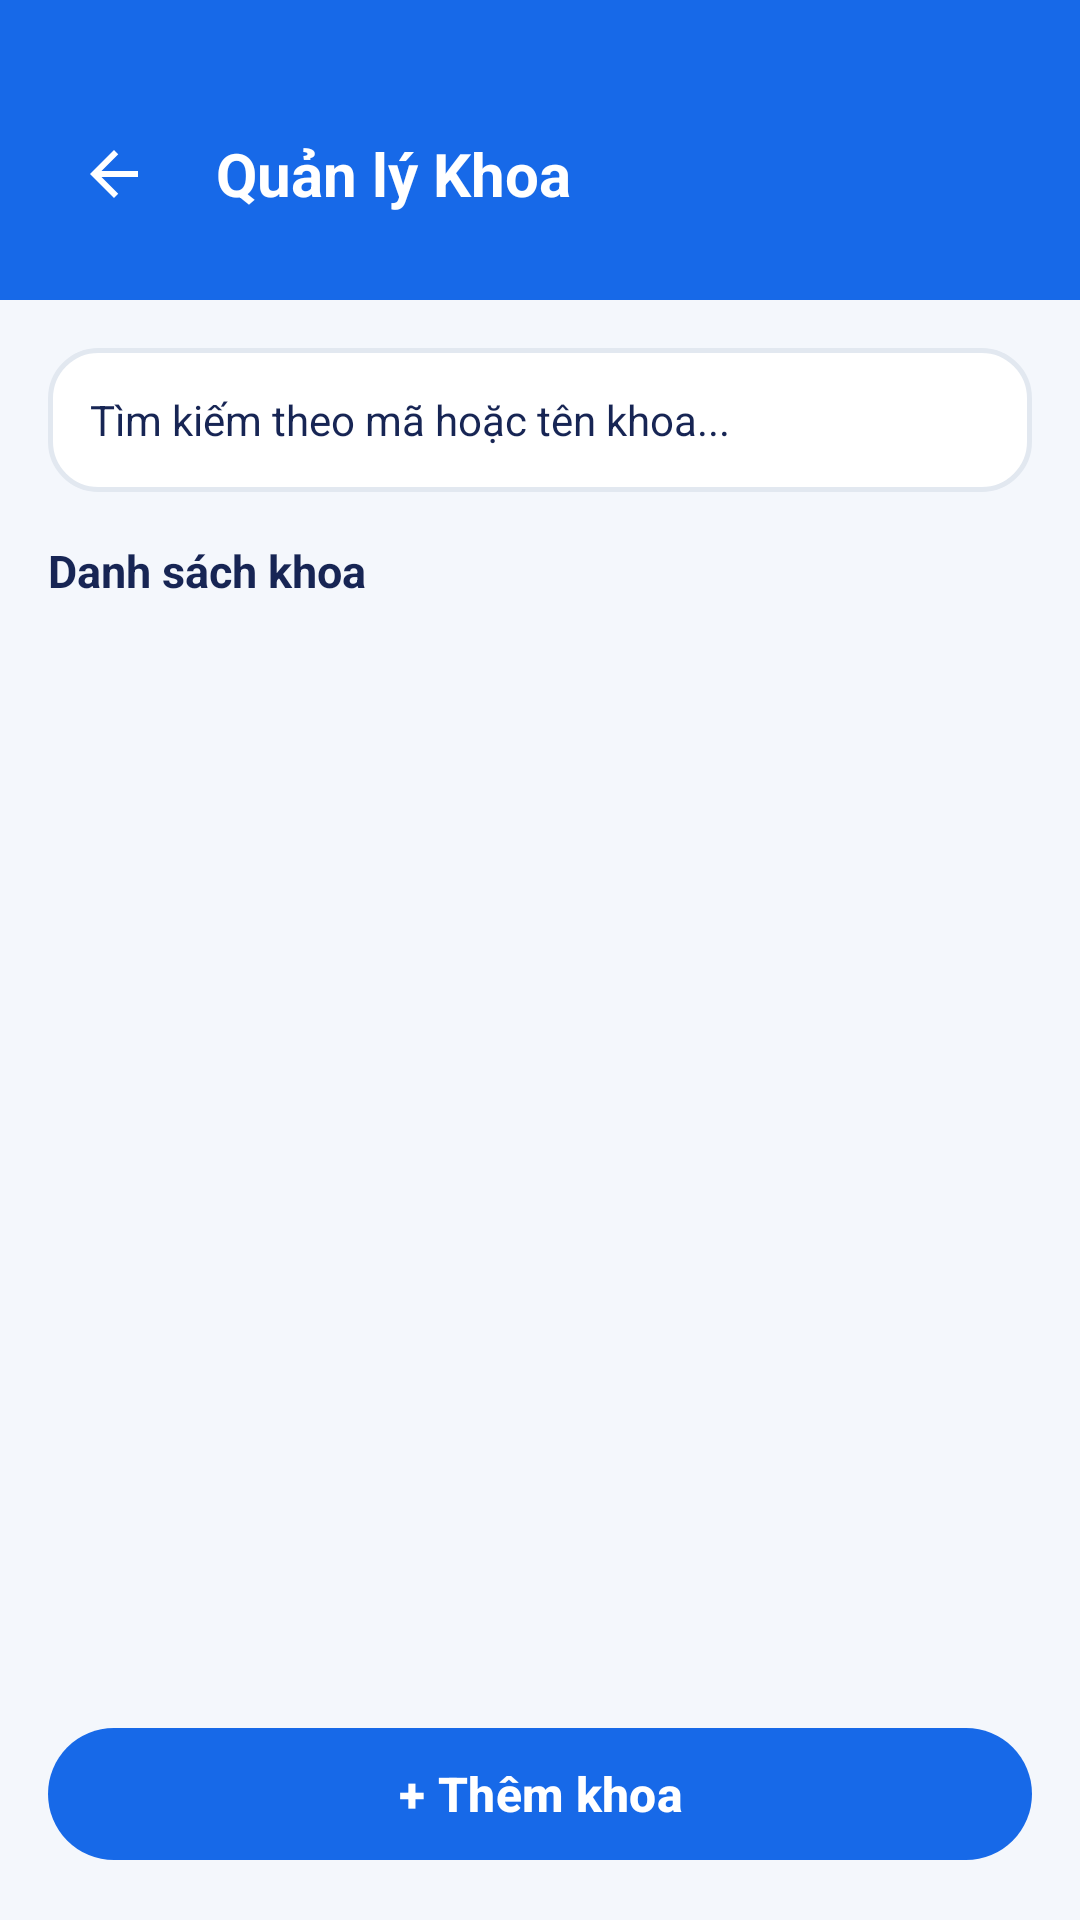

Icon click points for this 1080x1920 phone screenshot, format point (x, y):
Quay lại: point (114, 174)
